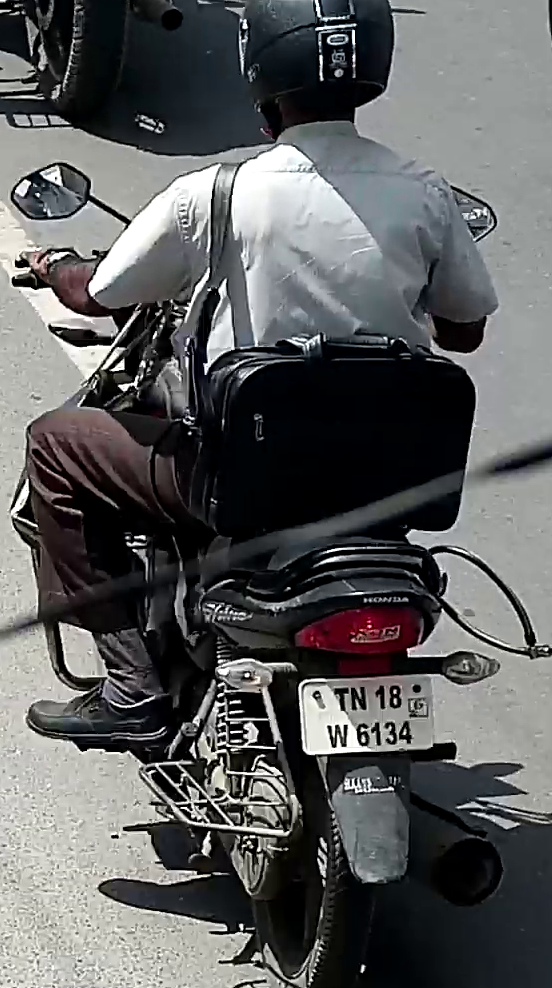1: (374, 684, 385, 708), (370, 721, 381, 745)
3: (383, 720, 397, 744)
4: (398, 719, 413, 745)
6: (355, 722, 369, 745)
8: (388, 683, 401, 708)
N: (350, 685, 366, 711)
P16: (297, 672, 450, 759)
T: (333, 686, 348, 710)
W: (326, 723, 347, 747)
